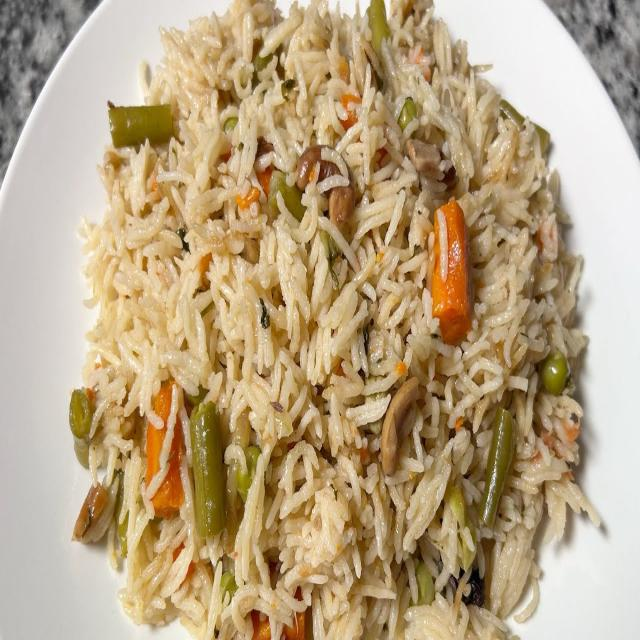veg palav: (60, 0, 616, 640)
